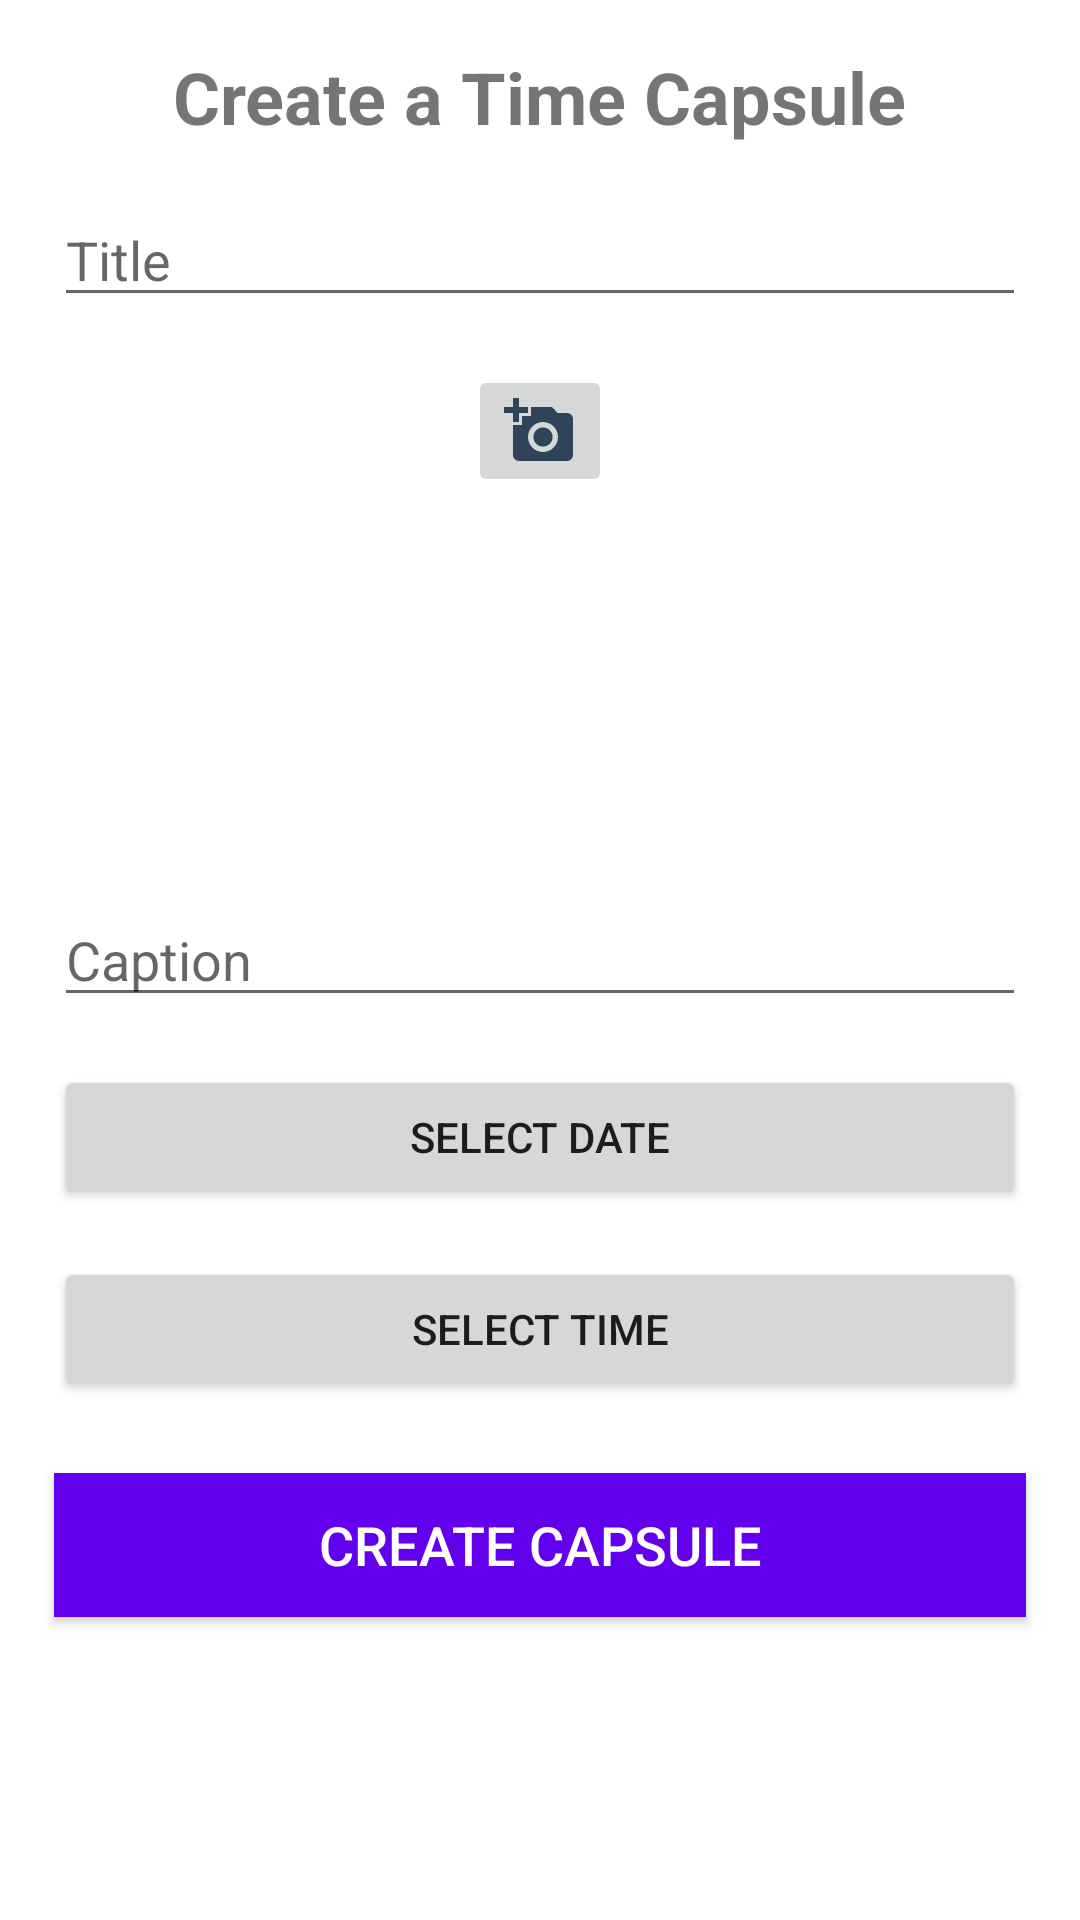

Where icons sit on this 1080 x 1920 app screen, as (x1, y1, x2, y2):
add photo: (480, 383, 600, 479)
